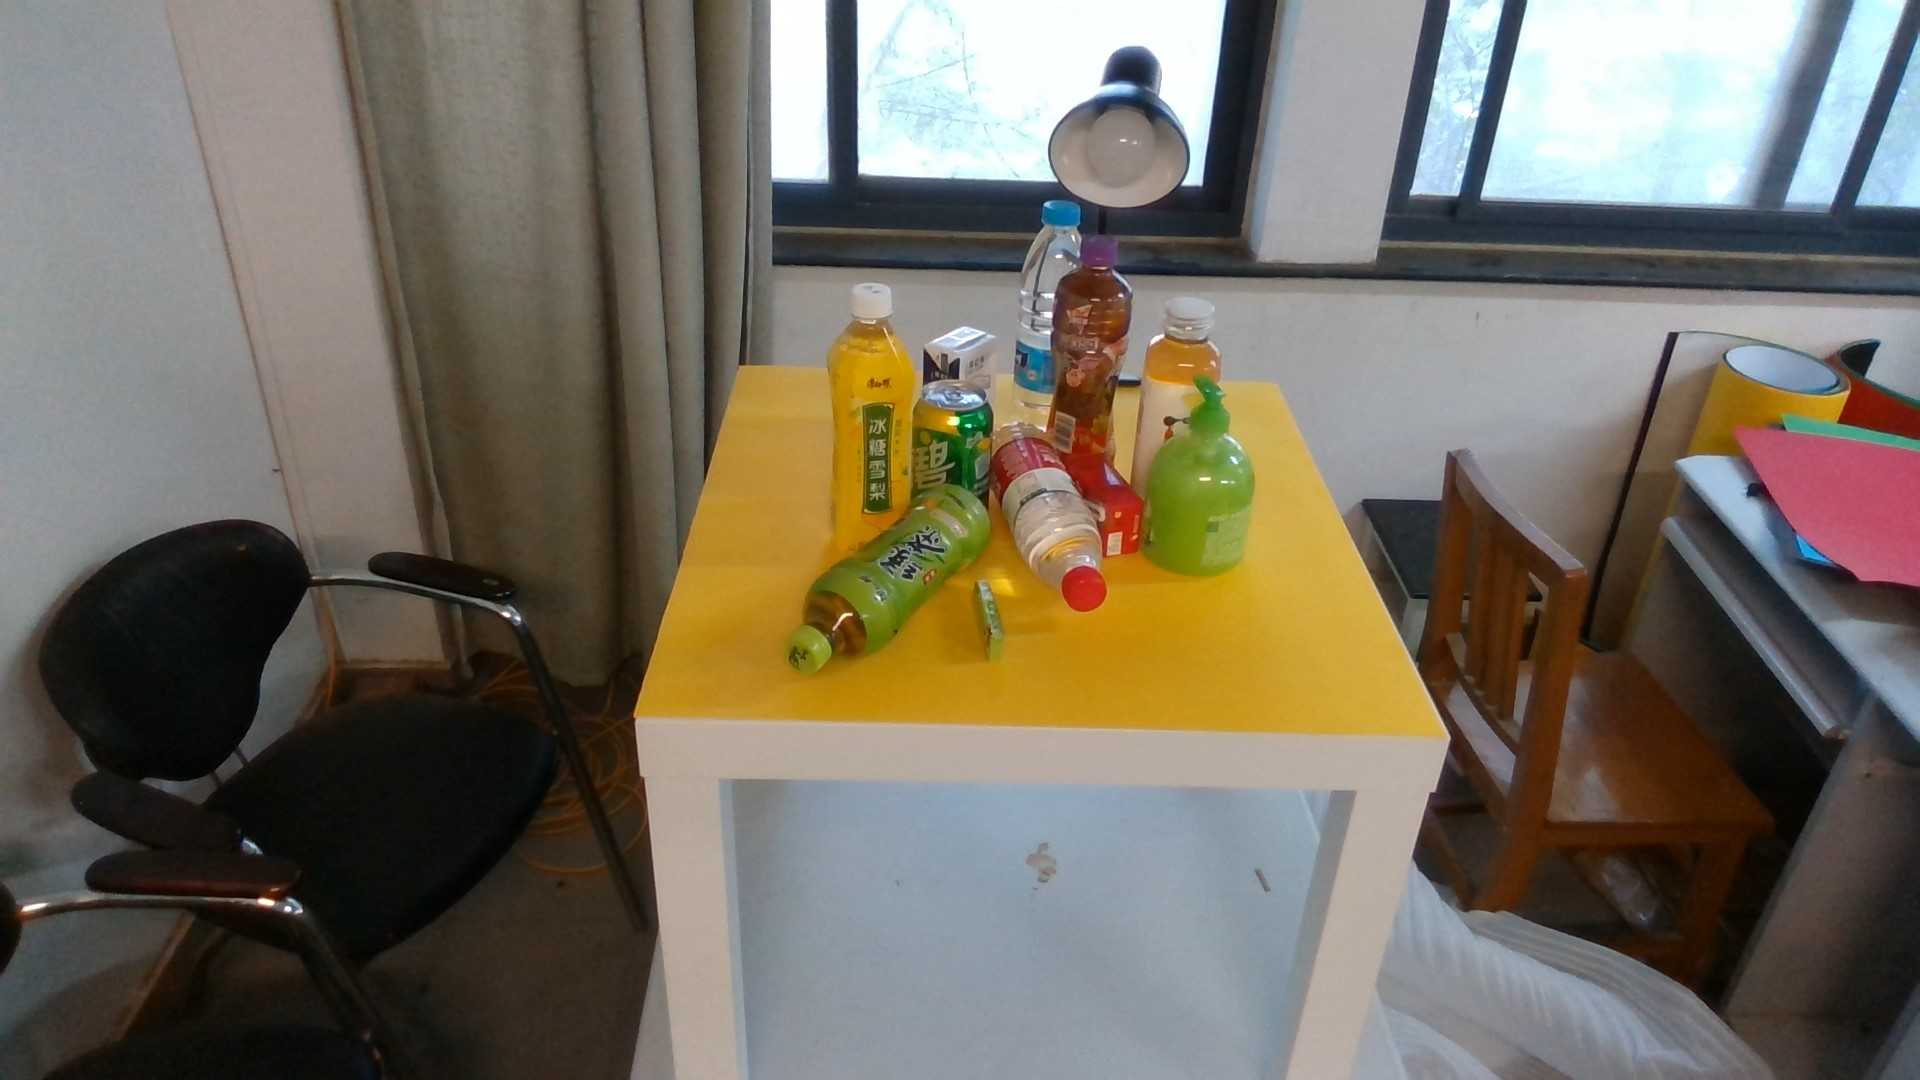BB002: (975, 582, 1004, 659)
BB010: (924, 324, 997, 382)
BB012: (1102, 464, 1138, 556)
ZA002: (1145, 429, 1251, 582)
ZC009: (1050, 232, 1133, 452)
ZC010: (786, 506, 972, 671)
ZC011: (827, 284, 913, 506), (913, 384, 996, 485)
ZC012: (1137, 294, 1193, 423)
ZC014: (994, 419, 1105, 611)
ZC019: (1015, 200, 1055, 419)
